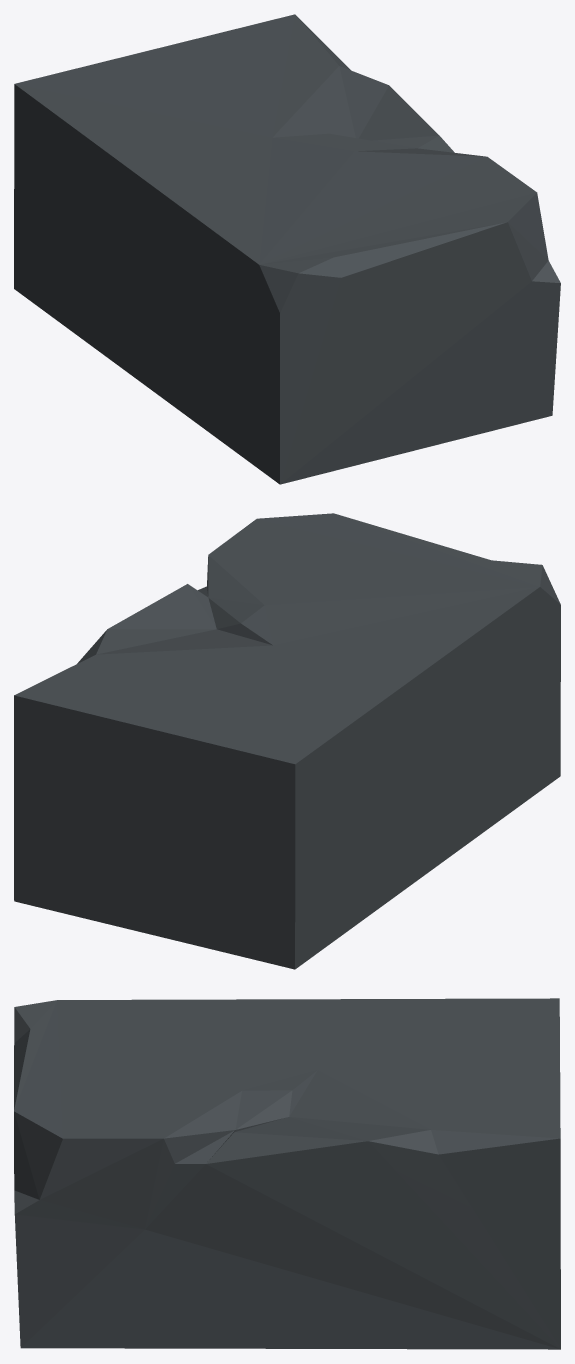
File: rocks02.fbx
3 renders of one model, top to bottom at view 1: azimuth 30°, elevation 25°; view 2: azimuth 150°, elevation 25°; view 3: azimuth 270°, elevation 25°, orthographic. The views are drawn at different scales.
Visible parts, largest first — view 1: rocks02; view 2: rocks02; view 3: rocks02.
Part boxes in pixels (box(x1,y1,x2,y2)): rocks02: box(14, 14, 560, 484); rocks02: box(14, 513, 560, 969); rocks02: box(14, 998, 560, 1349).
Bounding box in the file's own units: 10.9 × 7.68 × 17.87.
